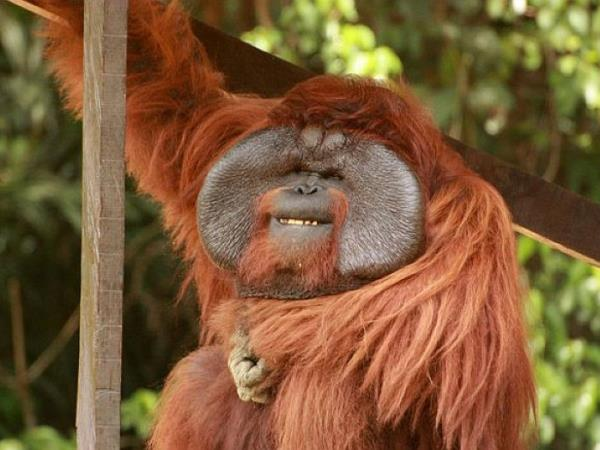Orangutan: (124, 46, 553, 447)
